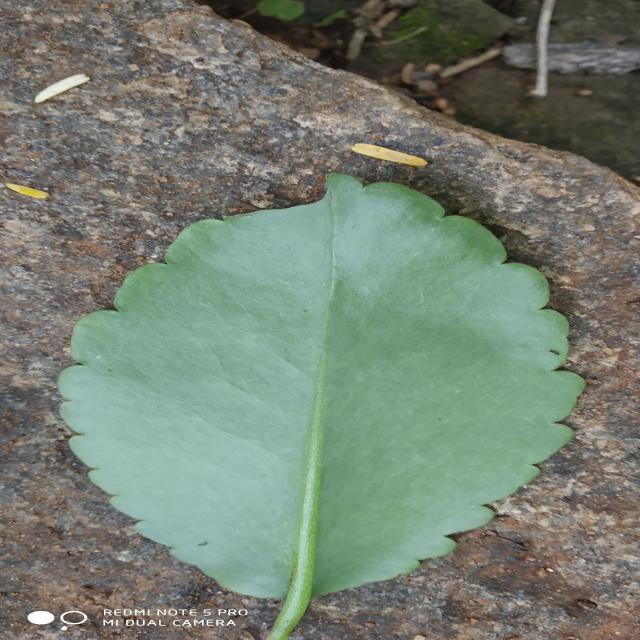spinach: (58, 174, 585, 640)
